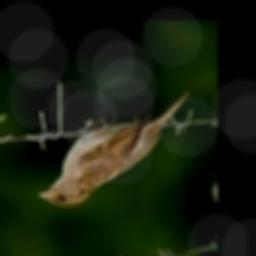Sparrow: (37, 91, 192, 208)
